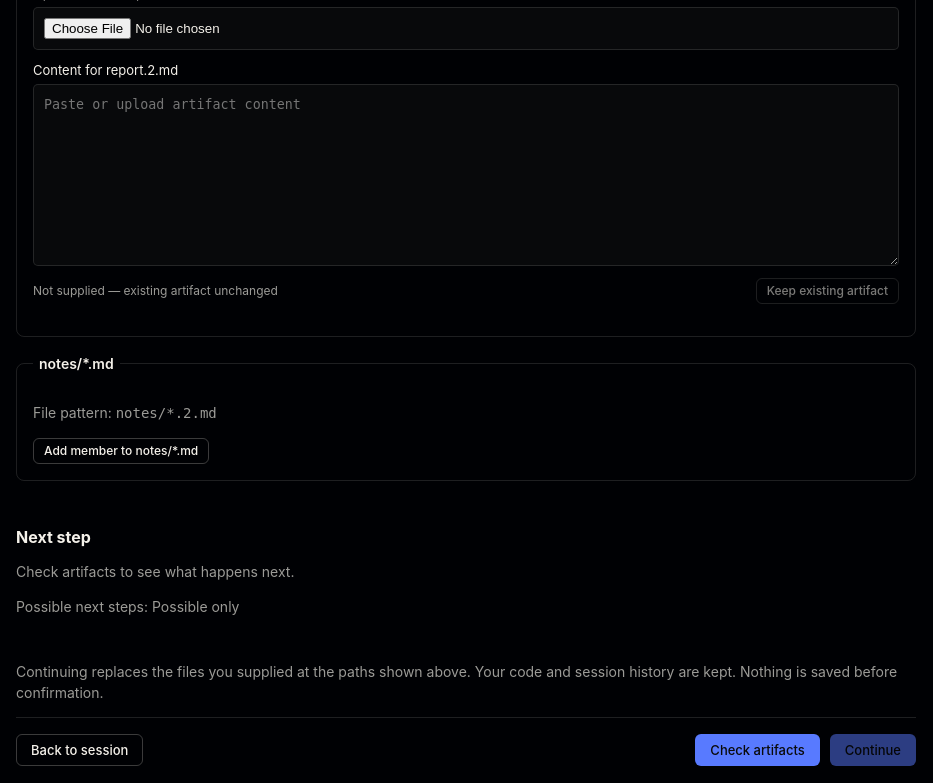
Test: ArtifactHandoffPage › shows a terminal result without claiming possible steps will start
The width and height of the screenshot is (933, 783).
(page scrolled)
Click the button "Check artifacts" at (758, 750), box [695,734,820,766]
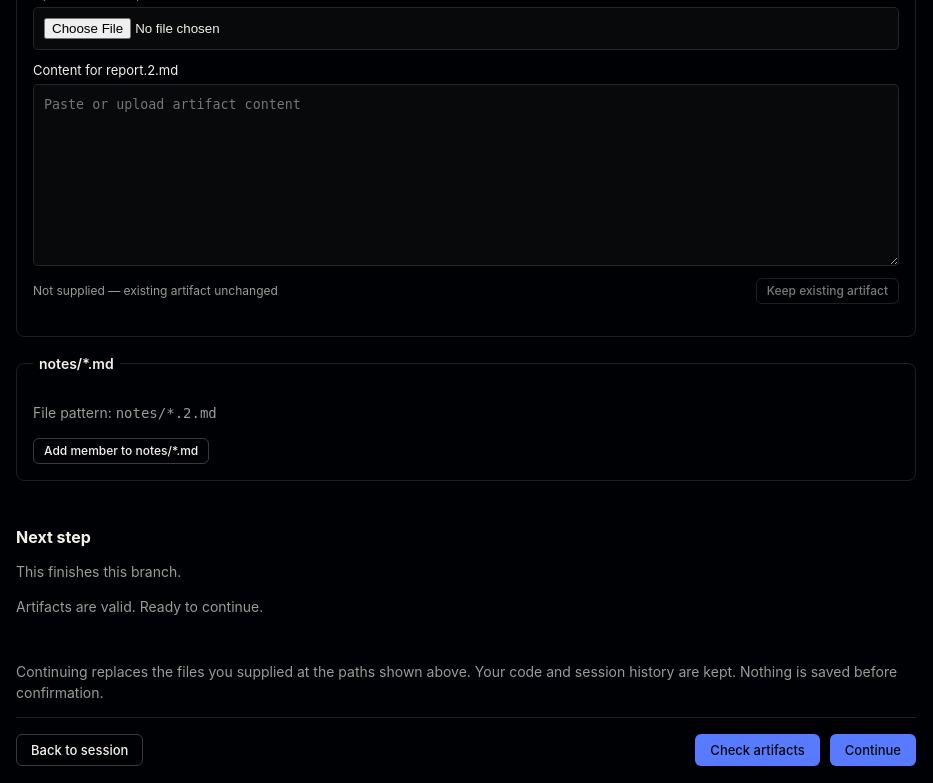
expect the text "Artifacts are valid. Ready to continue." is shown: met, box [16,598,263,615]
expect the text "Possible only" is gone: met
expect the button "Continue" is enabled: met, box [830,734,916,766]
